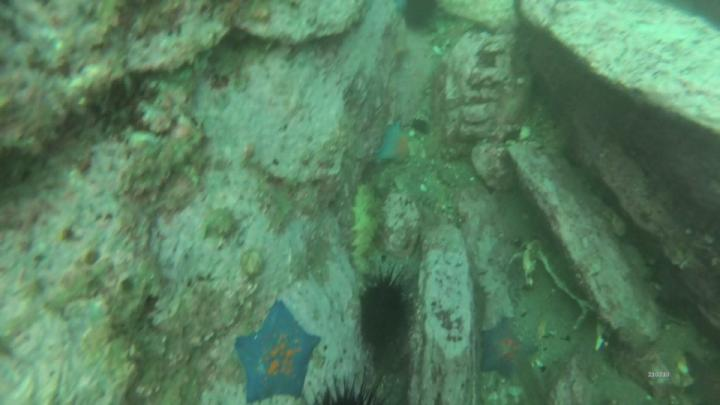echinus: (362, 280, 407, 350), (404, 1, 437, 29)
holothurian: (349, 185, 381, 259)
starfish: (234, 302, 321, 402), (484, 319, 537, 379), (382, 123, 413, 165)
